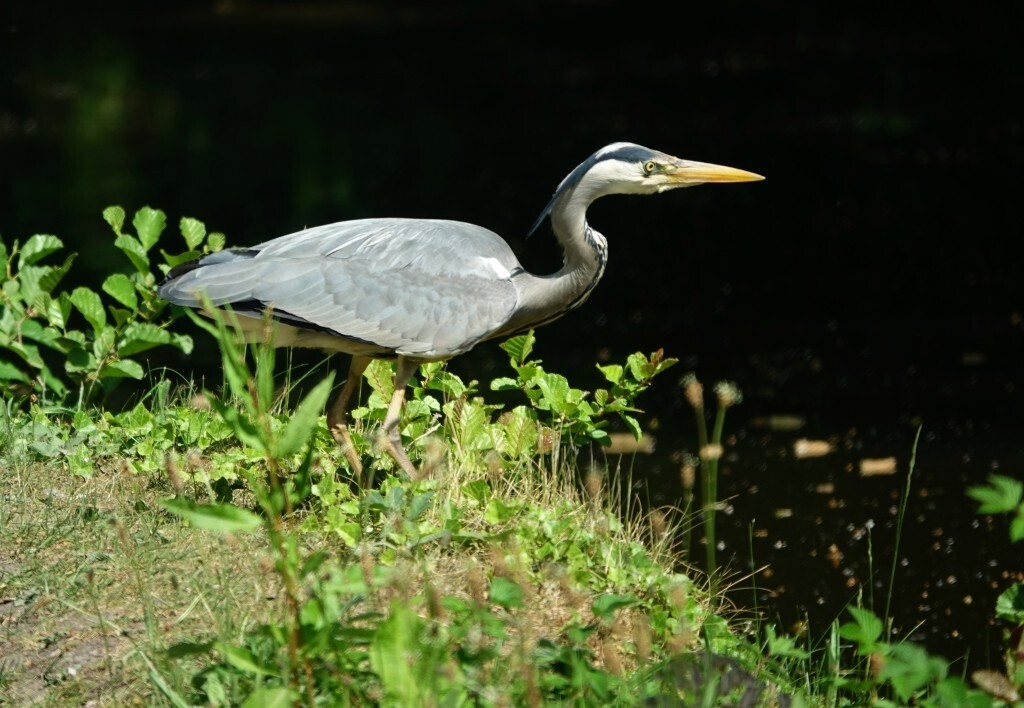heron: (160, 139, 769, 489)
